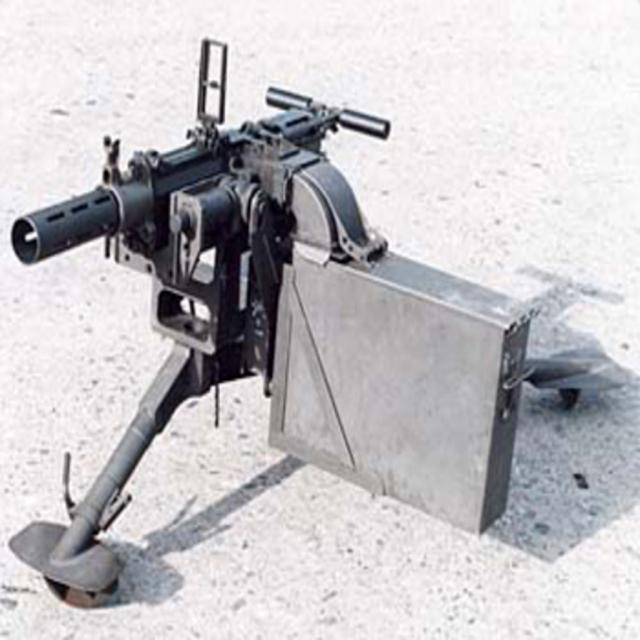weapon: (64, 66, 404, 376)
